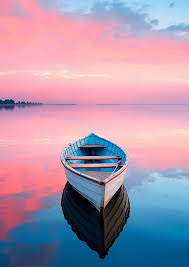boat: (60, 133, 129, 211)
